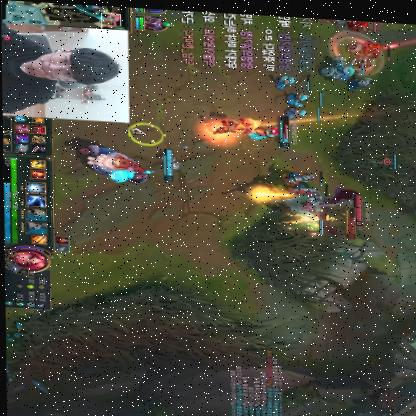streamer: (0, 24, 119, 119)
